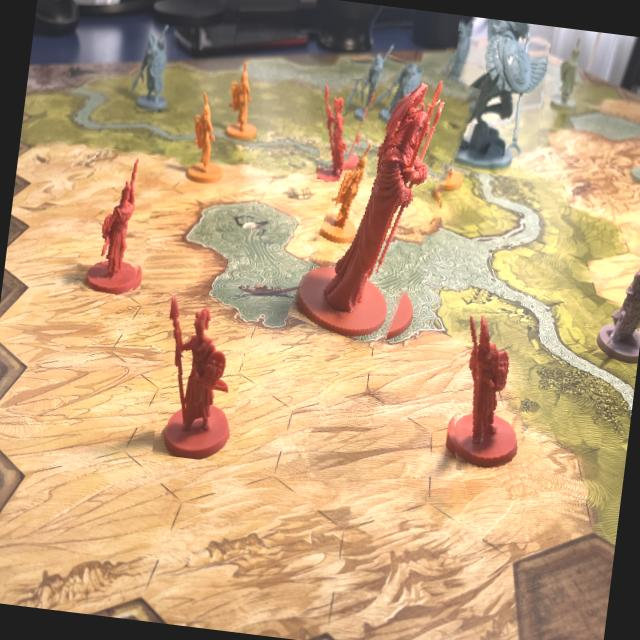amon: (300, 51, 467, 353)
amon_follower: (152, 292, 249, 464), (437, 305, 535, 475), (76, 146, 160, 298), (312, 76, 374, 185)
isis: (438, 14, 552, 178)
isis_follower: (126, 22, 181, 114), (436, 29, 480, 103)
